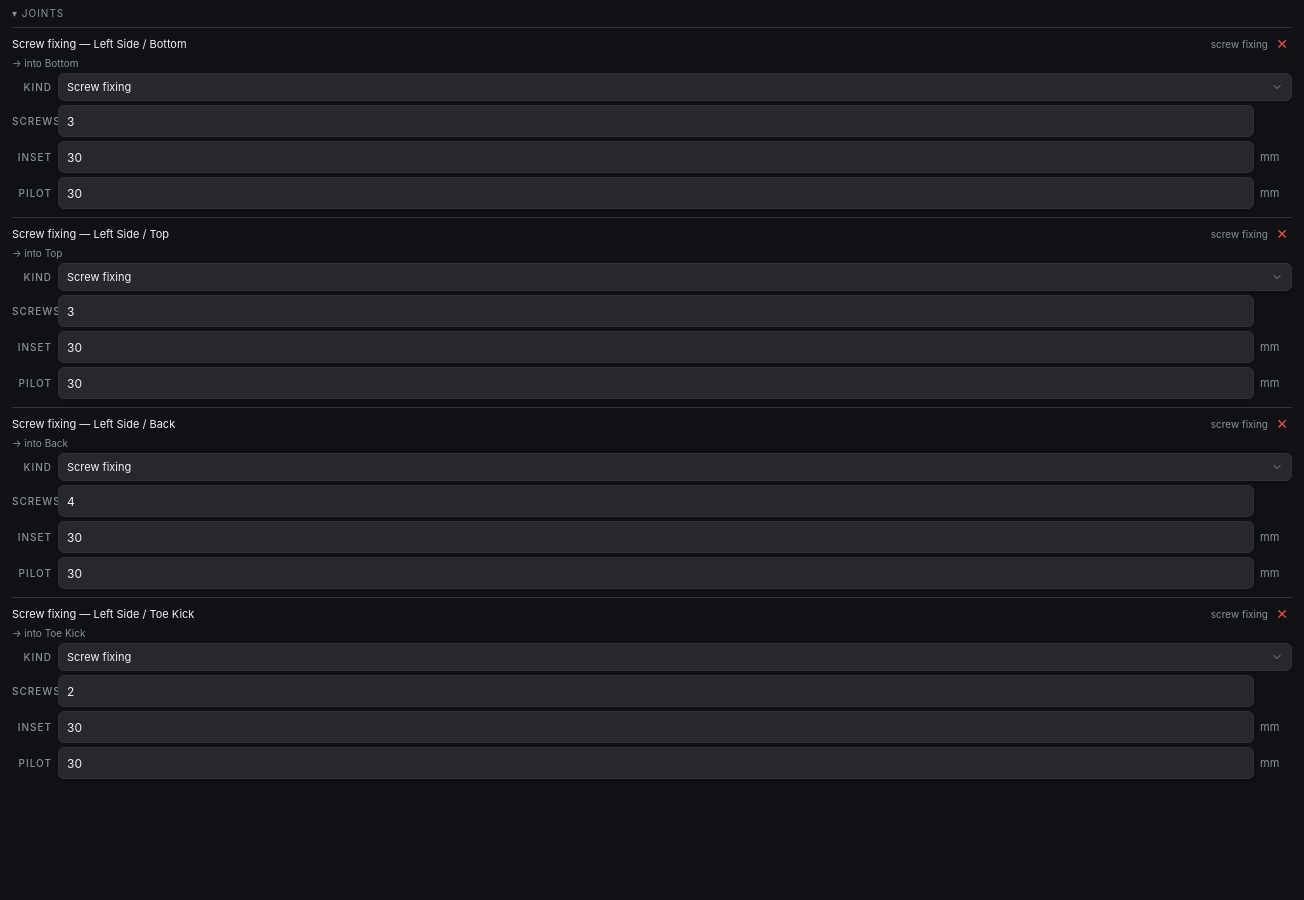
Scenario: changing a joint kind › offers the kinds the pairing admits, and no others
The width and height of the screenshot is (1304, 900).
Click the dropdown labelled "Screw fixing" below "Screw fixing — Left Side / Bottom".
click(99, 87)  # box [58,73,1292,101]
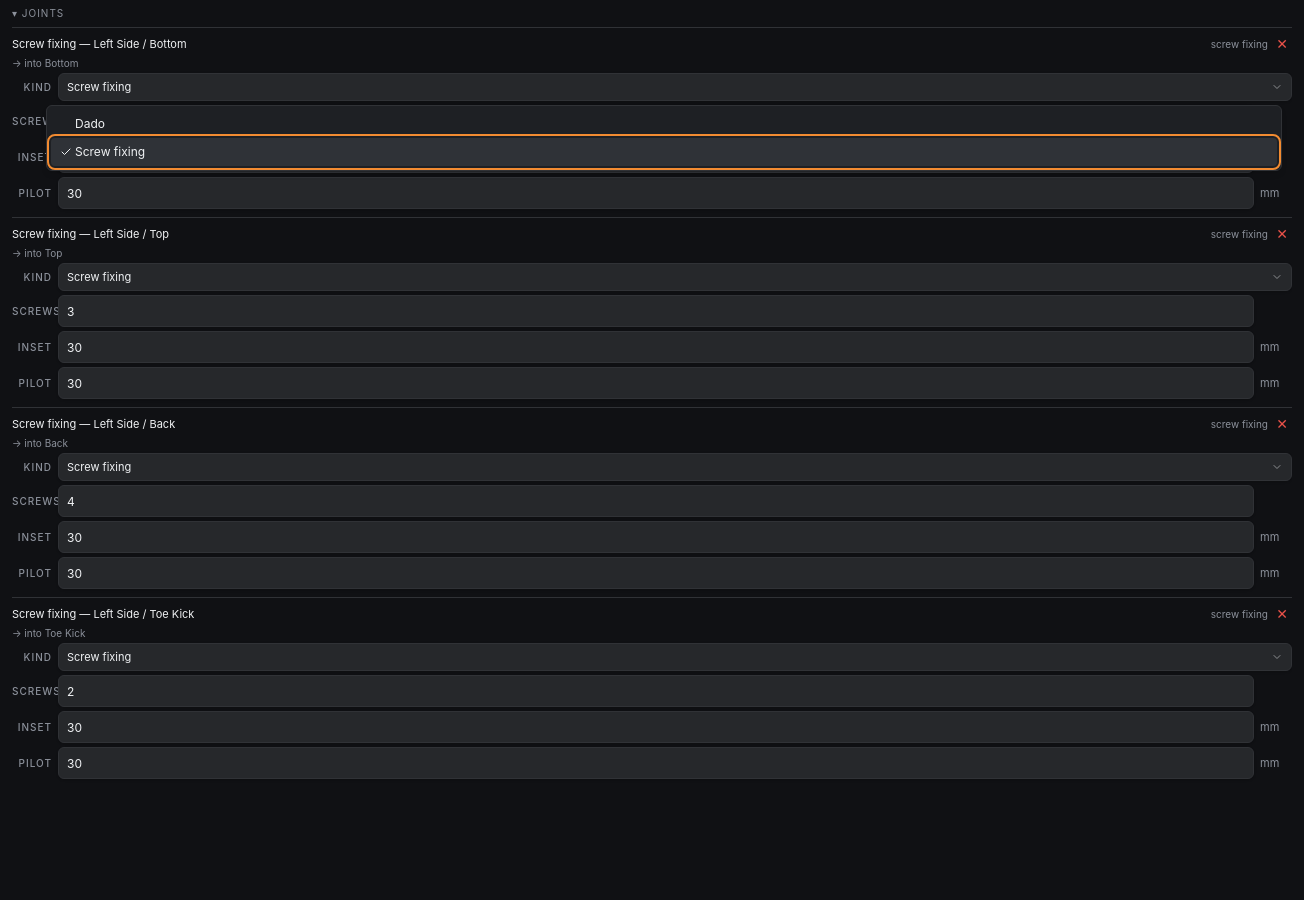
Expected: the options read "Dado", "Screw fixing", in this order, [75,116,105,131]; [51,138,1277,166]
